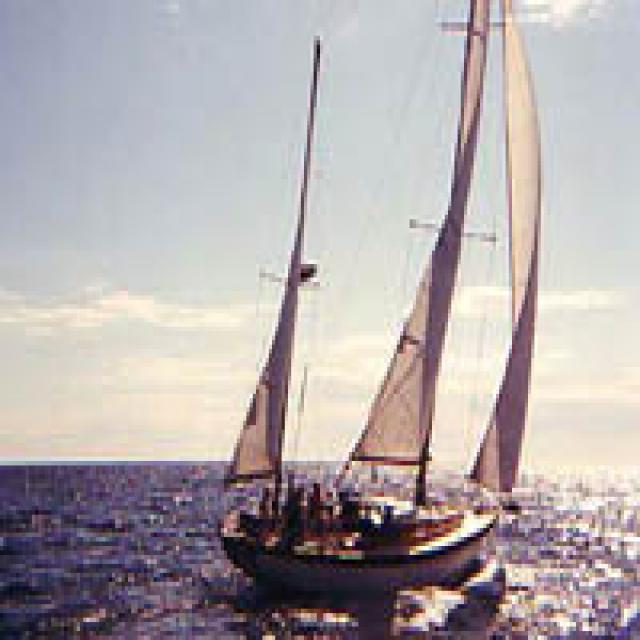Ship: (222, 6, 548, 606)
